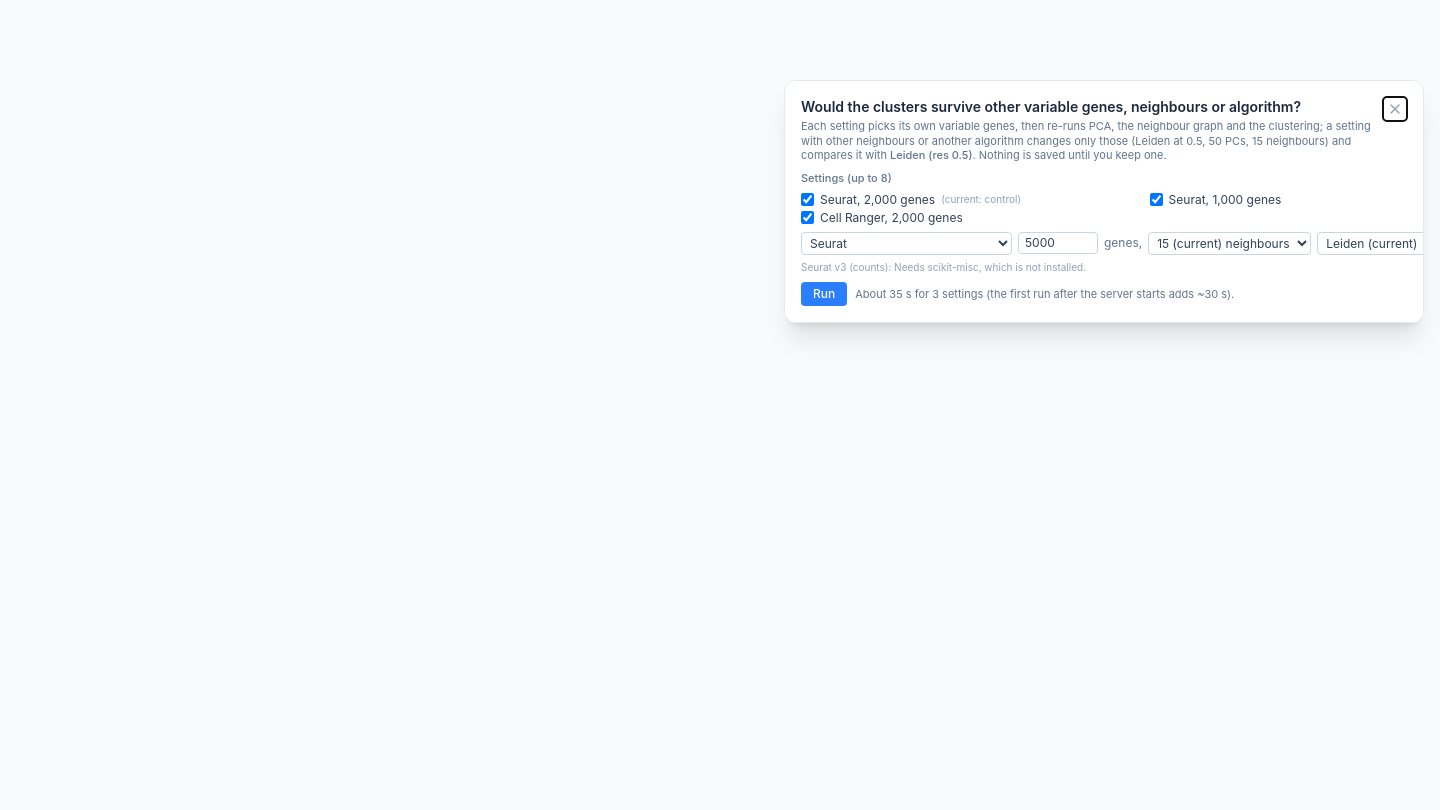
Test case: HvgSensitivityPanel › keeps a setting and colours the plot by it
Click the button "Run".
click(824, 294)  # box [801,282,847,306]
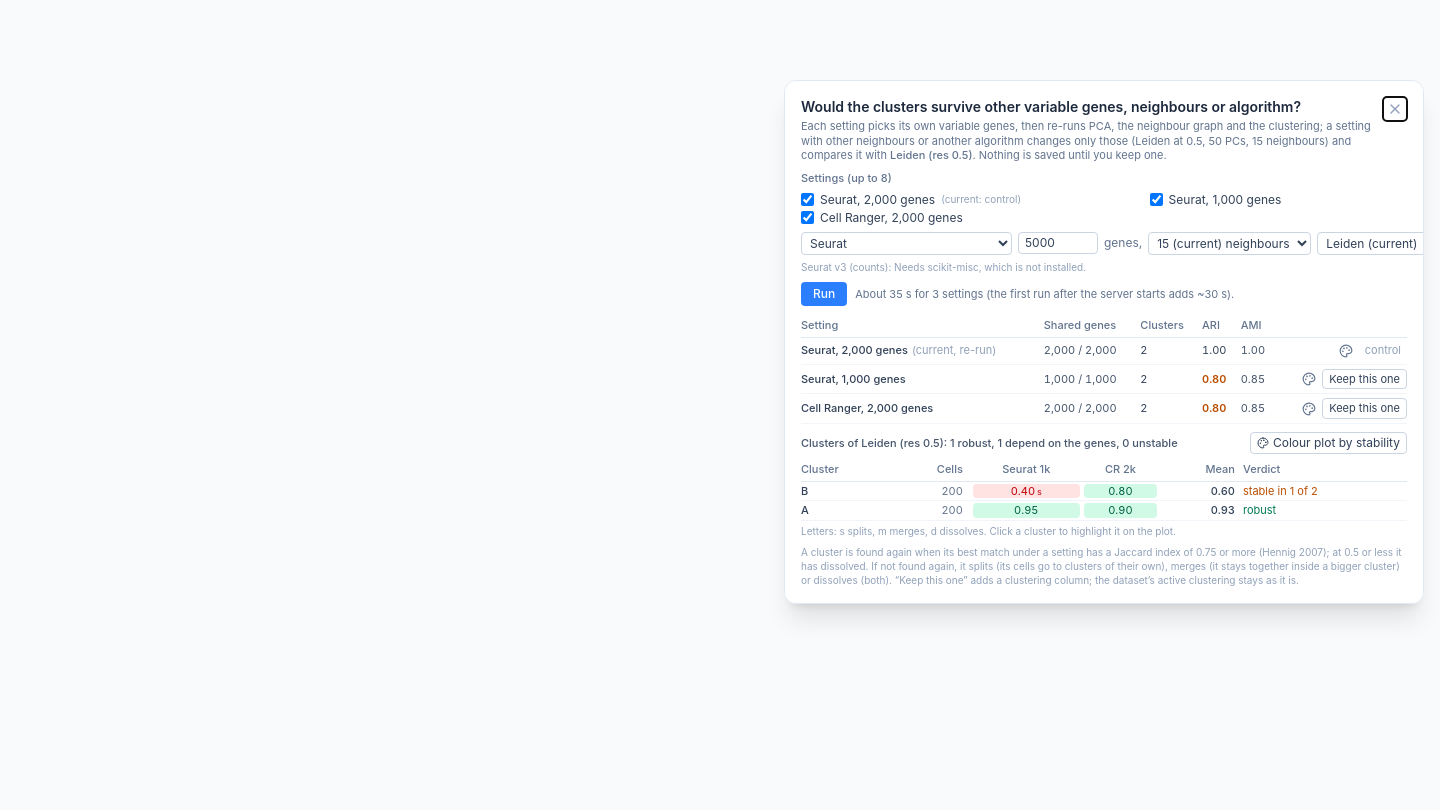
Click the button "Keep this one" in the row of "1,000 / 1,000".
click(1365, 379)  # box [1322,369,1407,389]
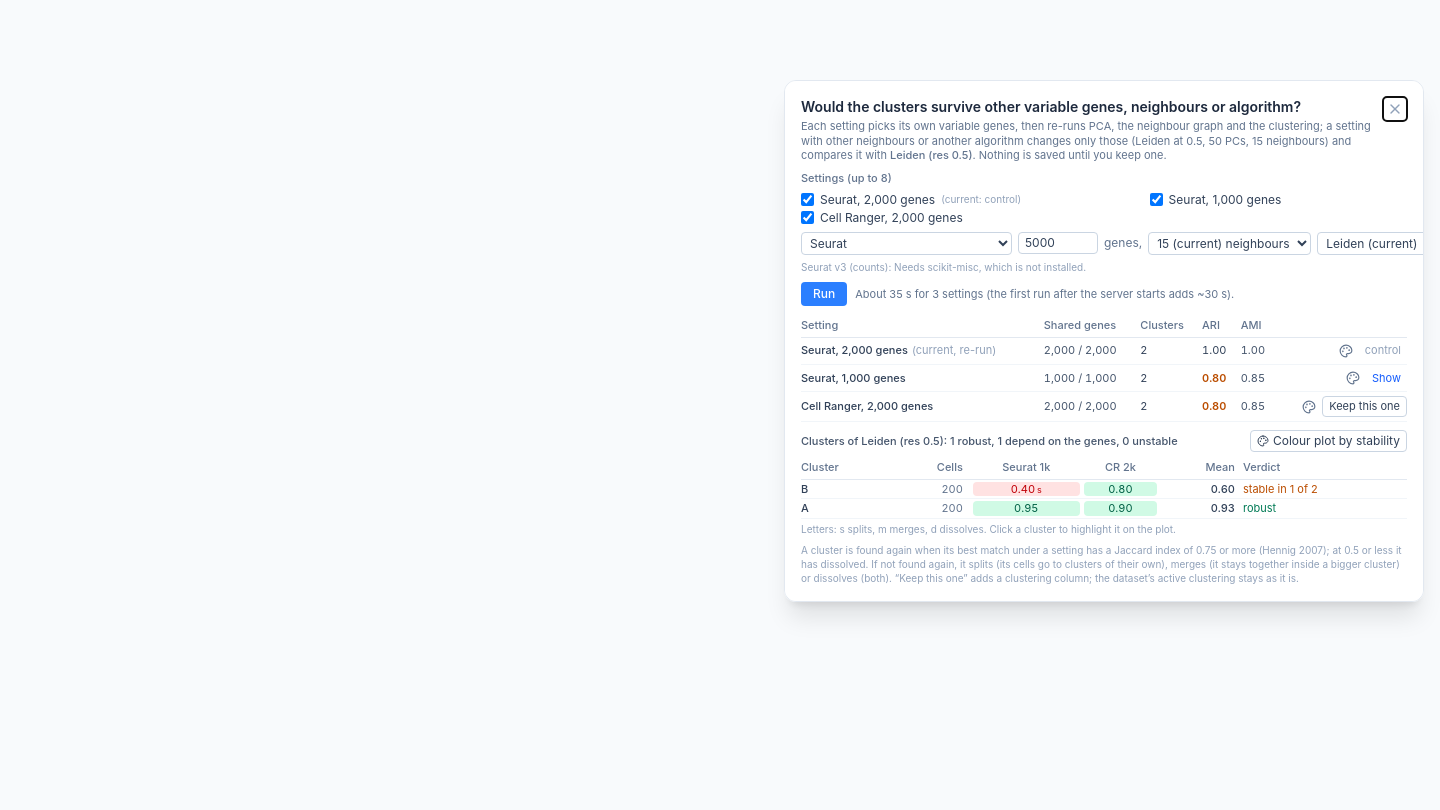
Expected: the number of buttons "Show" is 1, [1366,369,1407,387]
